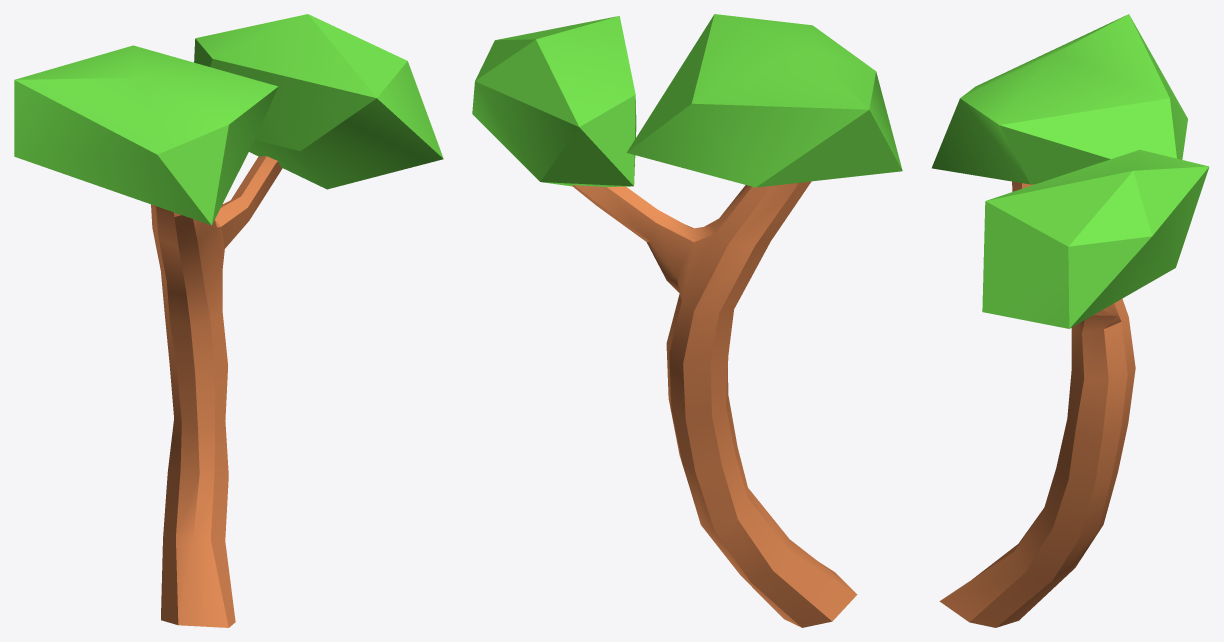
Rendered from tree4.fbx.
3 renders of one model, left to right at view 1: azimuth 30°, elevation 25°; view 2: azimuth 150°, elevation 25°; view 3: azimuth 270°, elevation 25°, orthographic. The views are drawn at different scales.
Visible parts, largest first — view 1: Icosphere.008, Cube.001, Icosphere; view 2: Cube.001, Icosphere.008, Icosphere; view 3: Icosphere, Icosphere.008, Cube.001.
Part boxes in pixels (<box>): Icosphere.008: <box>14,45,278,225</box>; Cube.001: <box>151,156,282,627</box>; Icosphere: <box>194,14,443,189</box>; Cube.001: <box>571,181,857,627</box>; Icosphere.008: <box>627,14,902,187</box>; Icosphere: <box>472,16,636,186</box>; Icosphere: <box>982,149,1209,328</box>; Icosphere.008: <box>932,14,1187,184</box>; Cube.001: <box>939,181,1135,627</box>.
Bounding box in the file's own units: 553 × 706 × 325.
